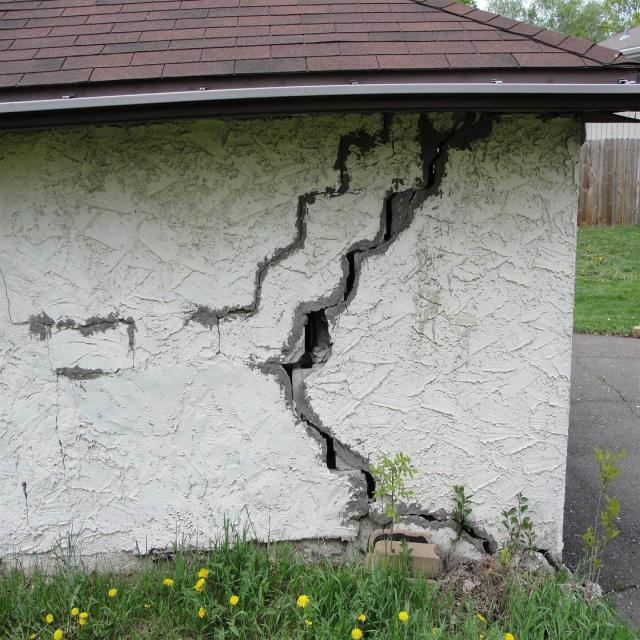Wall_Cracks: (163, 101, 571, 574)
